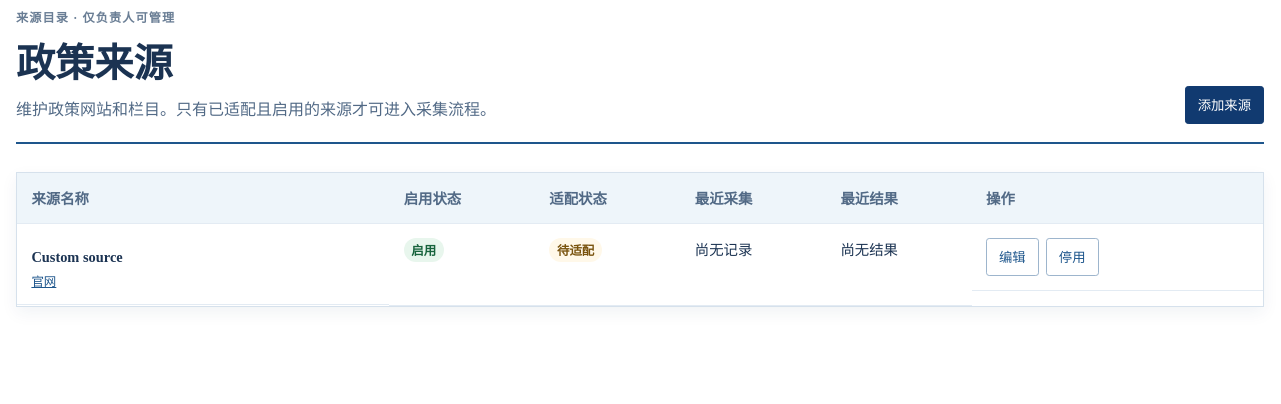
Scenario: PolicySourcesView › restores row controls and shows an error after a toggle failure
The image size is (1281, 404).
Click the button "停用" at (1072, 257), box [1046,238,1099,276]
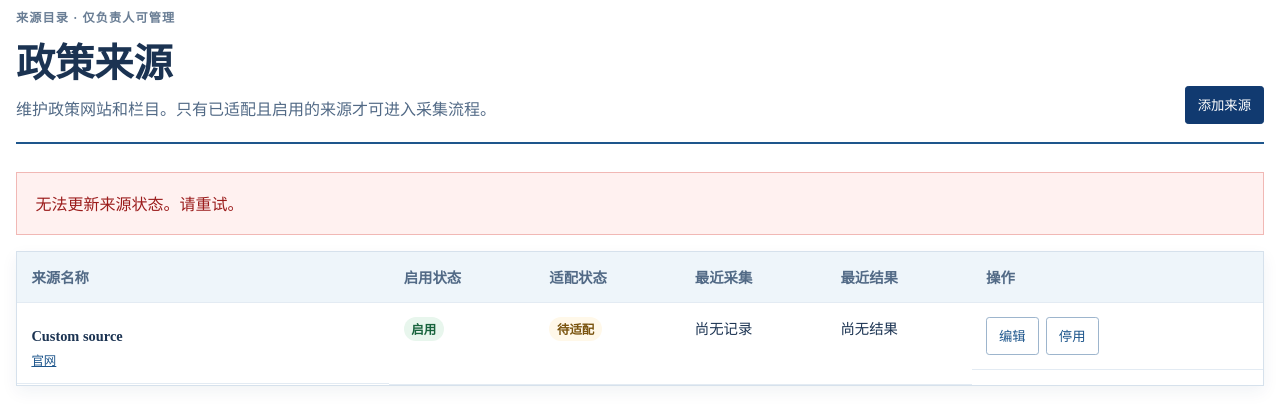
Expected: the button "编辑" is enabled, [986,317,1039,354]
Expected: the message "无法更新来源状态。请重试。" is shown, [16,172,1264,235]
